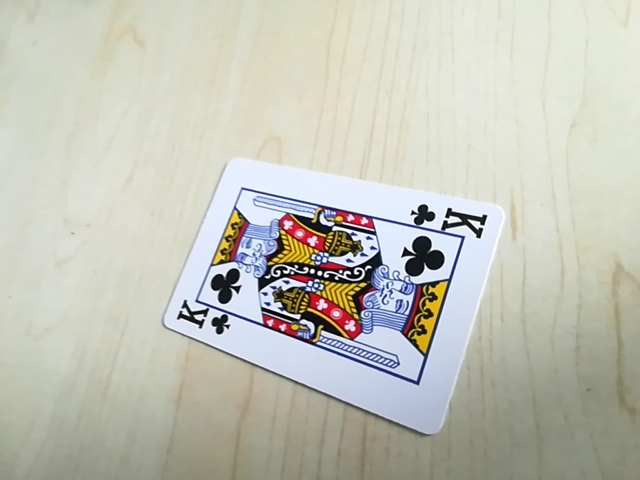mh k: (410, 201, 493, 235), (173, 304, 235, 336)
